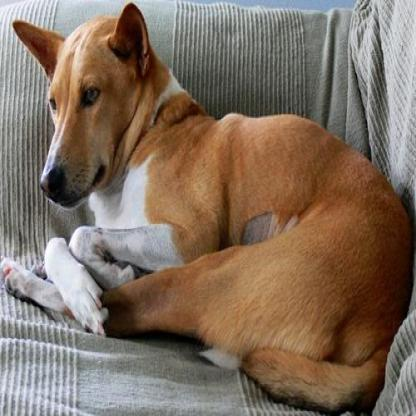basenji: (0, 3, 414, 412)
